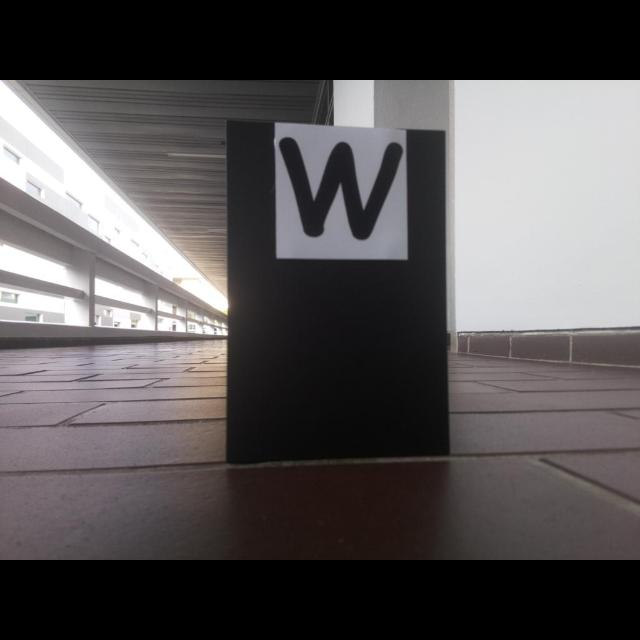W: (277, 135, 404, 242)
